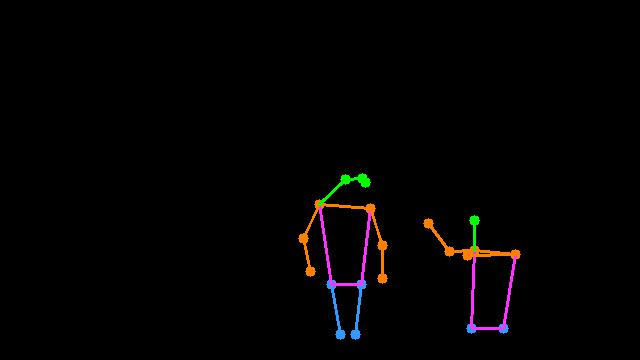normal: (279, 148, 404, 358)
